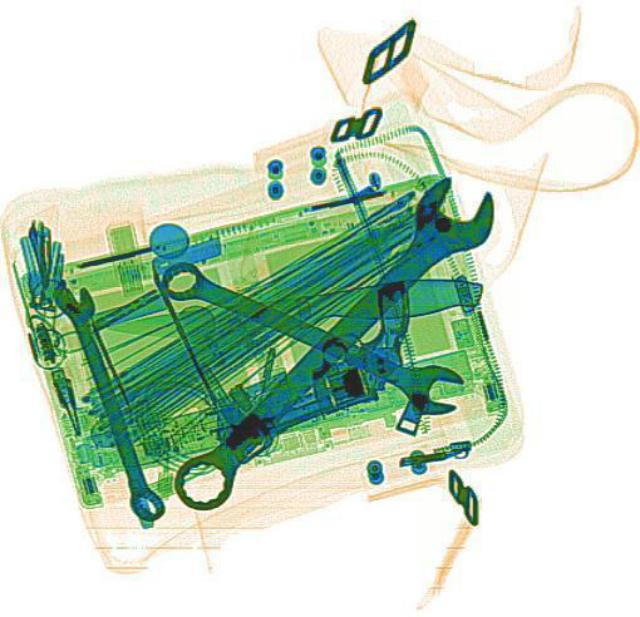Gun: (198, 279, 442, 438)
Knife: (106, 273, 480, 344)
Wrench: (152, 163, 514, 526), (148, 245, 474, 426), (46, 275, 166, 524)
